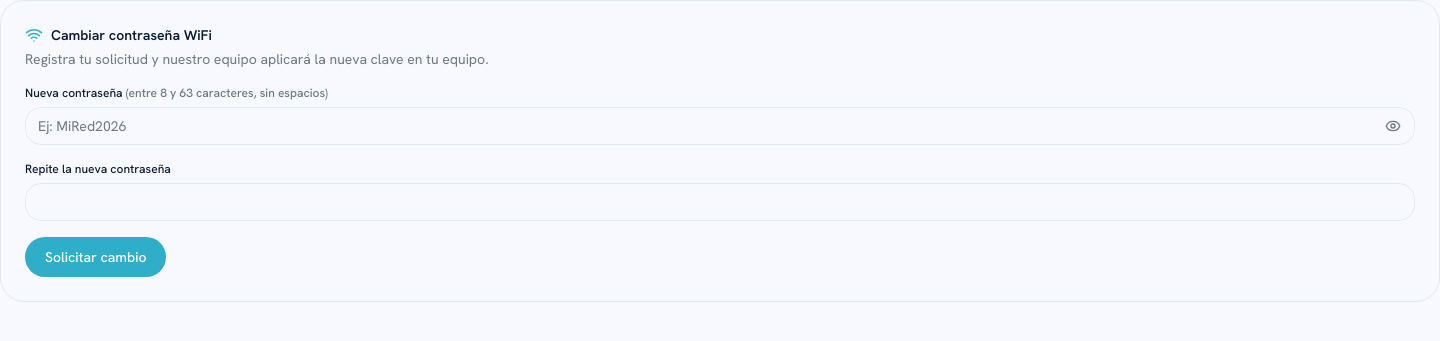
it: WifiPasswordSection (CU-31 / CU-32) › pide completar la clave cuando está vacía y no envía nada
Click the button "Solicitar cambio" at (96, 257), box [25,237,166,277]
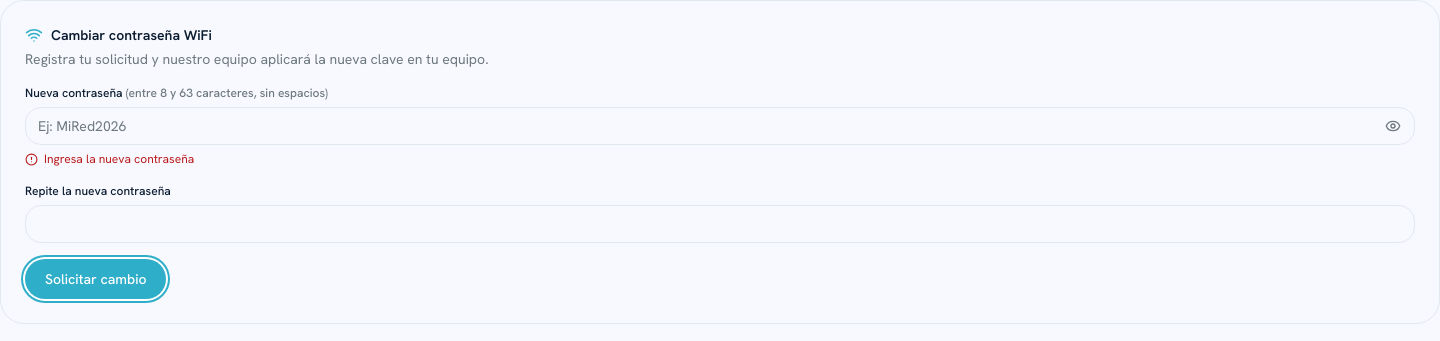
Now the text "Ingresa la nueva contraseña" is shown, box [25,151,194,167]
